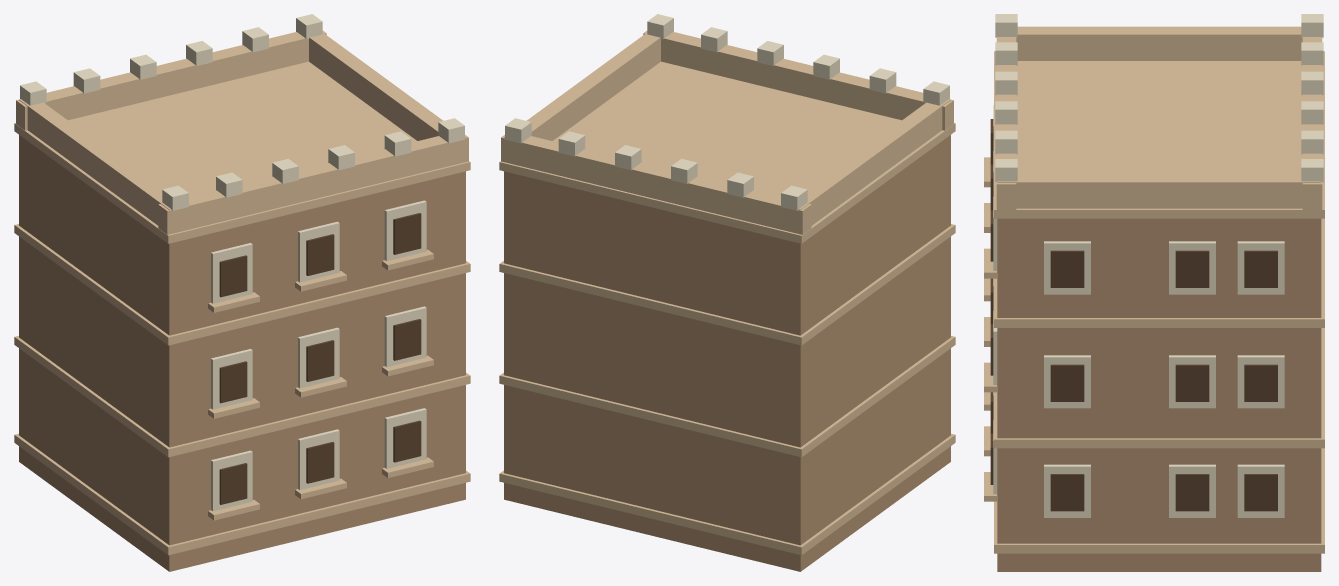
Rendered from stone_tower.glb.
3 renders of one model, left to right at view 1: azimuth 30°, elevation 25°; view 2: azimuth 150°, elevation 25°; view 3: azimuth 270°, elevation 25°, orthographic. The views are drawn at different scales.
Parts seen in each view (by area): view 1: HighlandStoneTower; view 2: HighlandStoneTower; view 3: HighlandStoneTower.
Part boxes in pixels (x1,y1,x2,y2): HighlandStoneTower: (14, 14, 470, 571); HighlandStoneTower: (499, 14, 955, 571); HighlandStoneTower: (984, 14, 1324, 571).
Bounding box in the file's own units: 5.96 × 7.01 × 5.37.
